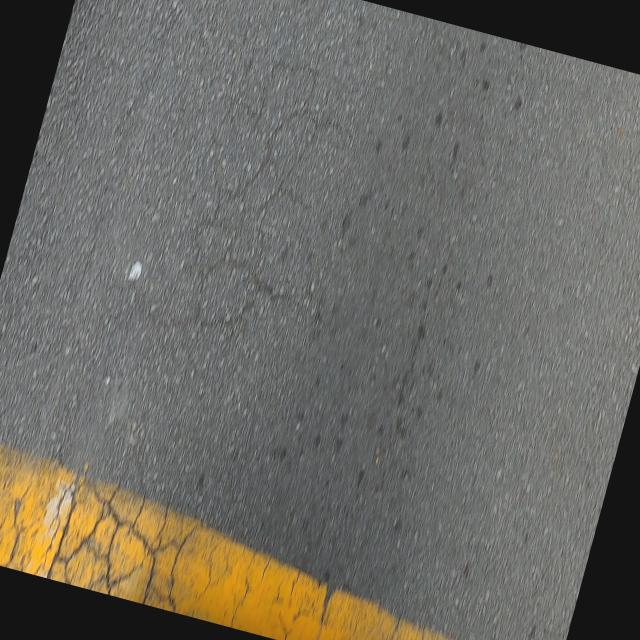Retak-Buaya: (187, 68, 358, 347), (43, 470, 195, 613)
